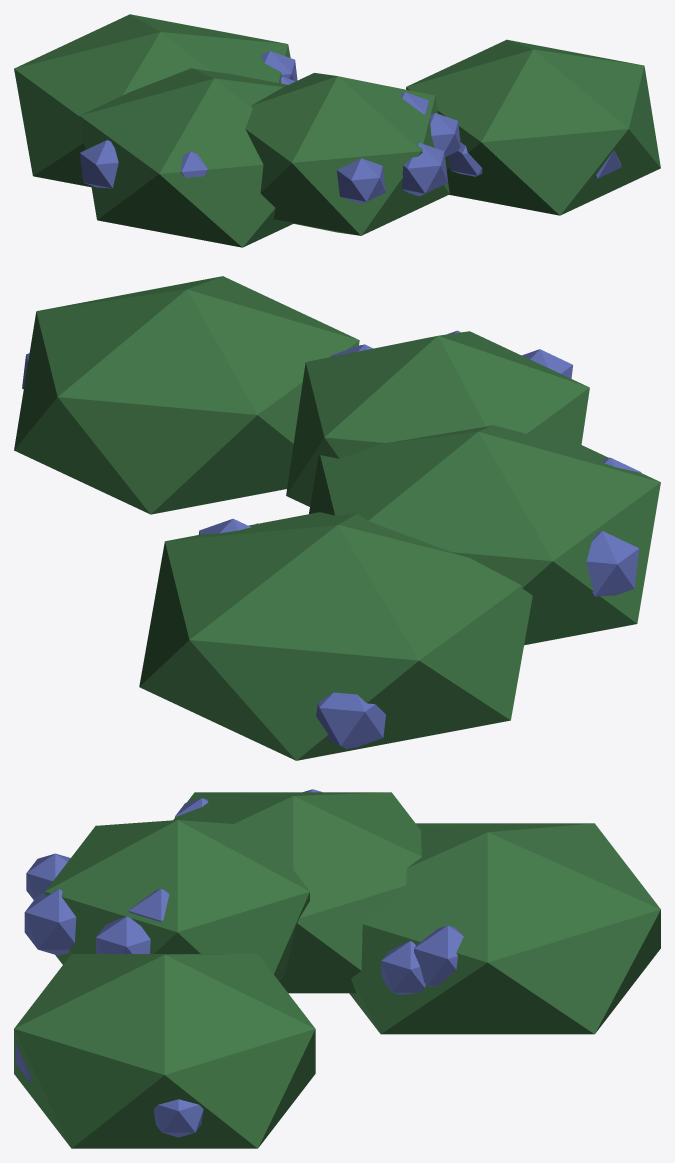
File: berry_patch_blue.glb
3 views of the same model, one above another, from view 1: azimuth 30°, elevation 25°; view 2: azimuth 150°, elevation 25°; view 3: azimuth 270°, elevation 25° (orthographic). The views are drawn at different scales.
Parts seen in each view (by area): view 1: berry_patch_blue; view 2: berry_patch_blue; view 3: berry_patch_blue.
Boxes of the visible parts, x1,y1,x2,y2 form: berry_patch_blue: (14,14,660,247); berry_patch_blue: (14,276,660,760); berry_patch_blue: (14,789,660,1148).
Size of the model in its own units: 0.5385 by 0.1959 by 0.4852.
